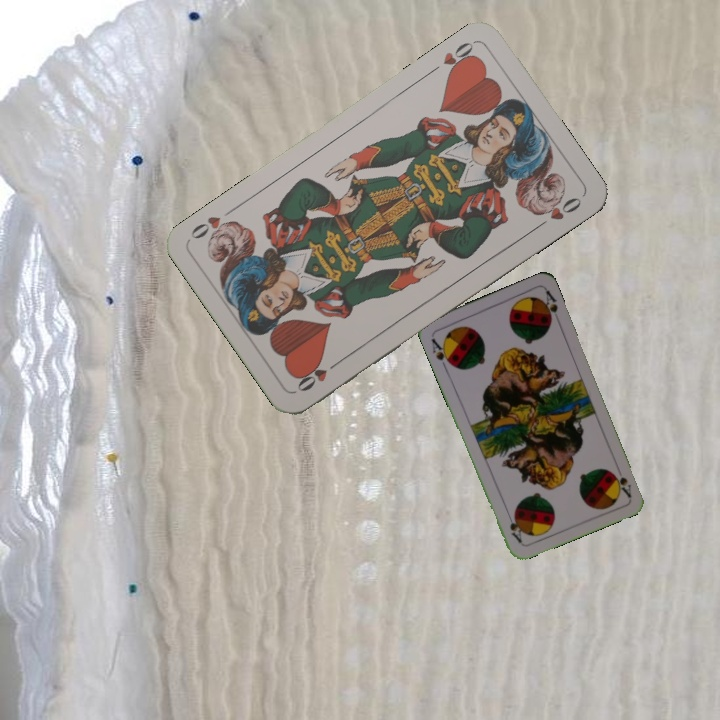HO: (425, 37, 479, 79), (292, 355, 344, 395)
SA: (427, 334, 455, 372), (609, 461, 634, 500)
